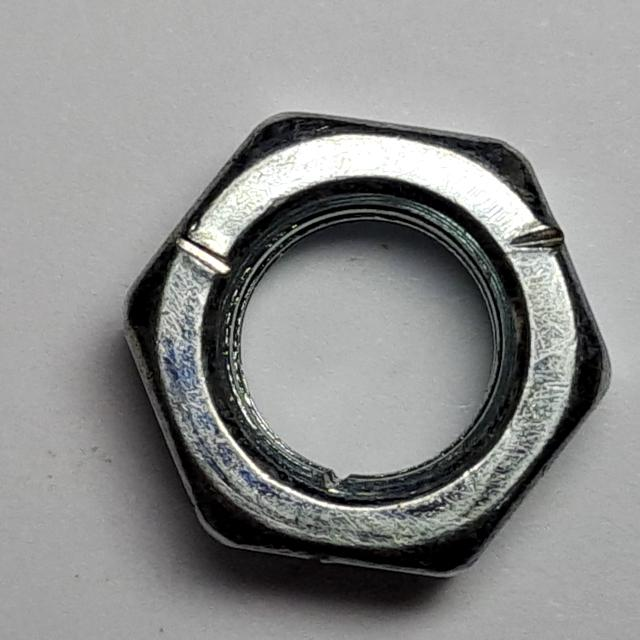Scratches: (111, 96, 625, 590)
